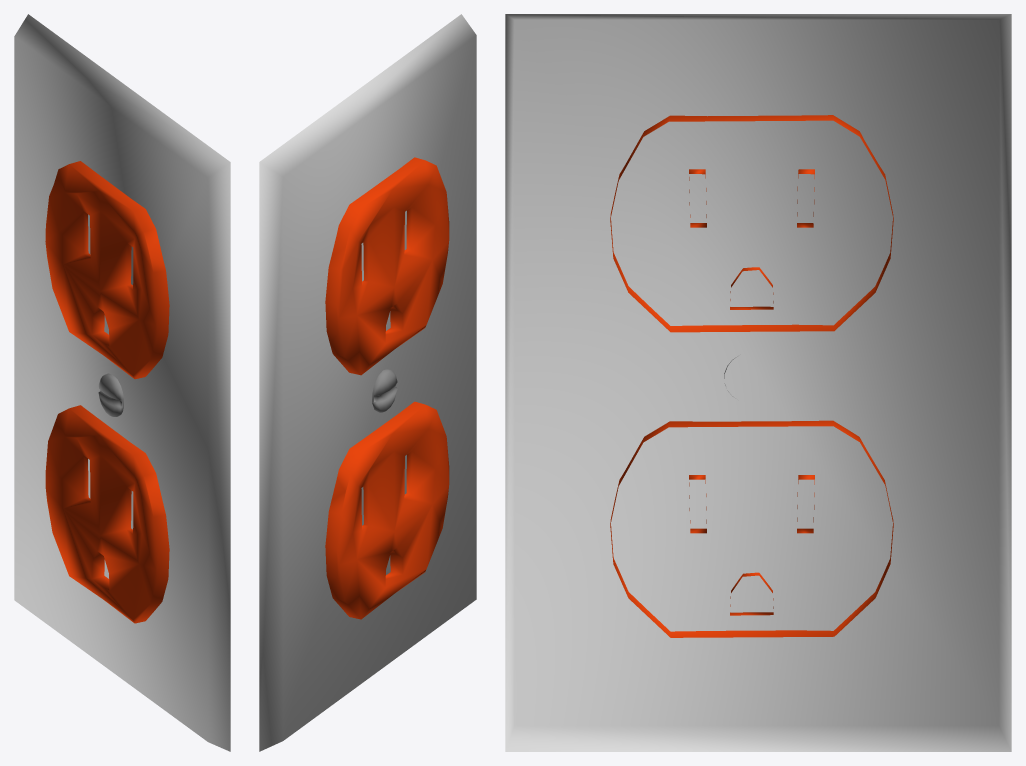
Rendered from TOMACORRIENTE.fbx.
The picture shows the model from 3 angles, left to right: view 1: azimuth 30°, elevation 25°; view 2: azimuth 150°, elevation 25°; view 3: azimuth 270°, elevation 25°; orthographic projection. The views are drawn at different scales.
Parts seen in each view (by area): view 1: TOMACORRIENTE; view 2: TOMACORRIENTE; view 3: TOMACORRIENTE.
Boxes of the visible parts, left/top/right/bottom form: TOMACORRIENTE: left=14, top=14, right=230, bottom=751; TOMACORRIENTE: left=259, top=14, right=476, bottom=751; TOMACORRIENTE: left=505, top=14, right=1011, bottom=751.
Bounding box in the file's own units: 0.642 × 11.5 × 7.15.
